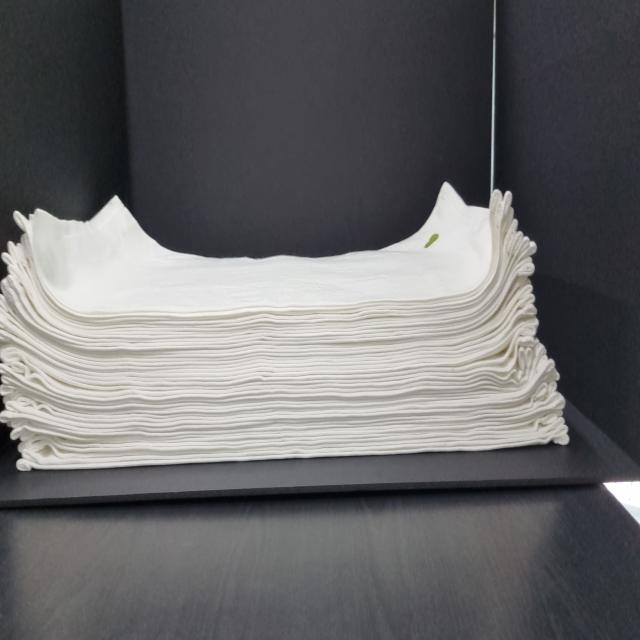not_50count_towel: (1, 170, 573, 478)
